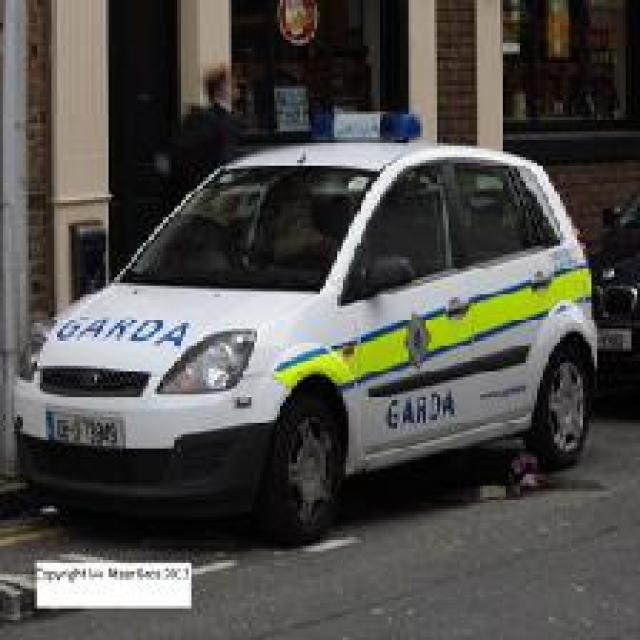Car: (586, 160, 637, 411)
Police-car: (11, 128, 600, 543)
